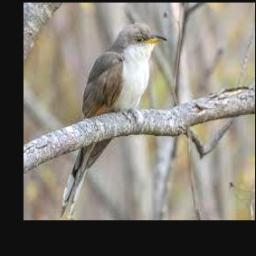Cuckoo: (60, 23, 168, 218)
